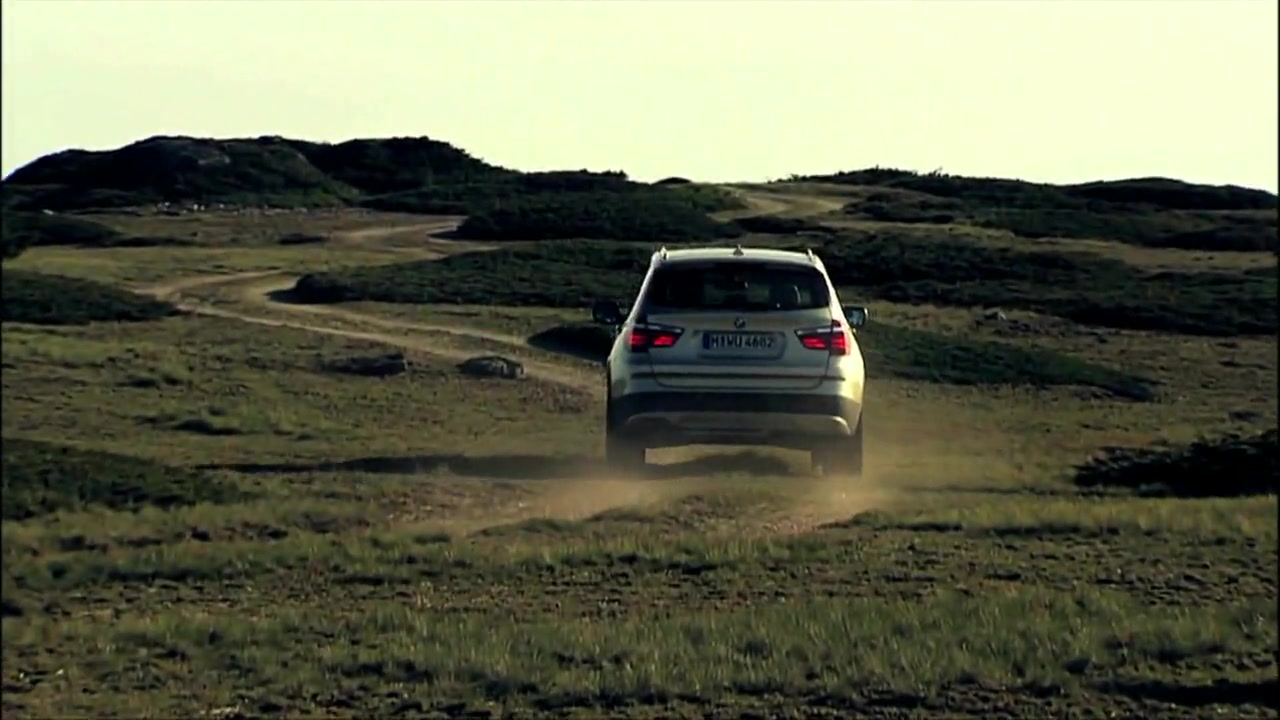car: (597, 242, 872, 479)
